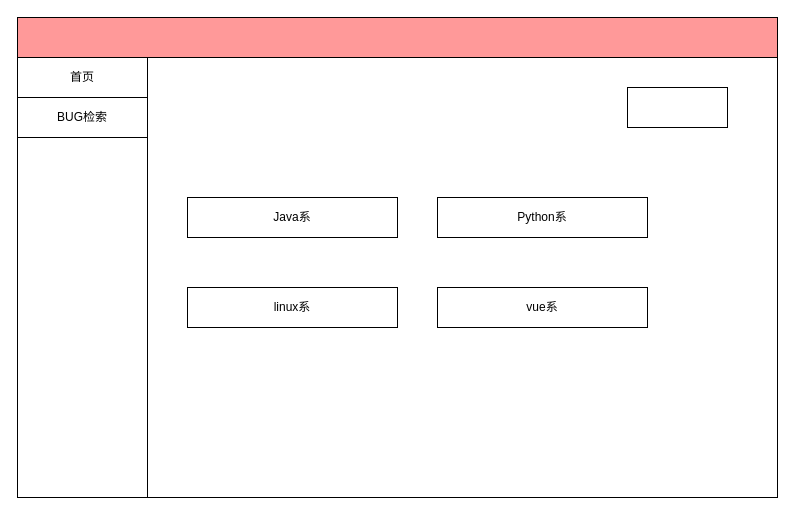
The diagram is 795 pixels wide and 515 high, and some of its shapes have lost their labels. The centre of each missing label's shape, as x and y in pixels:
"DEBUG SYSTEM" goes at (x=397, y=37).
"新规类" goes at (x=677, y=107).
